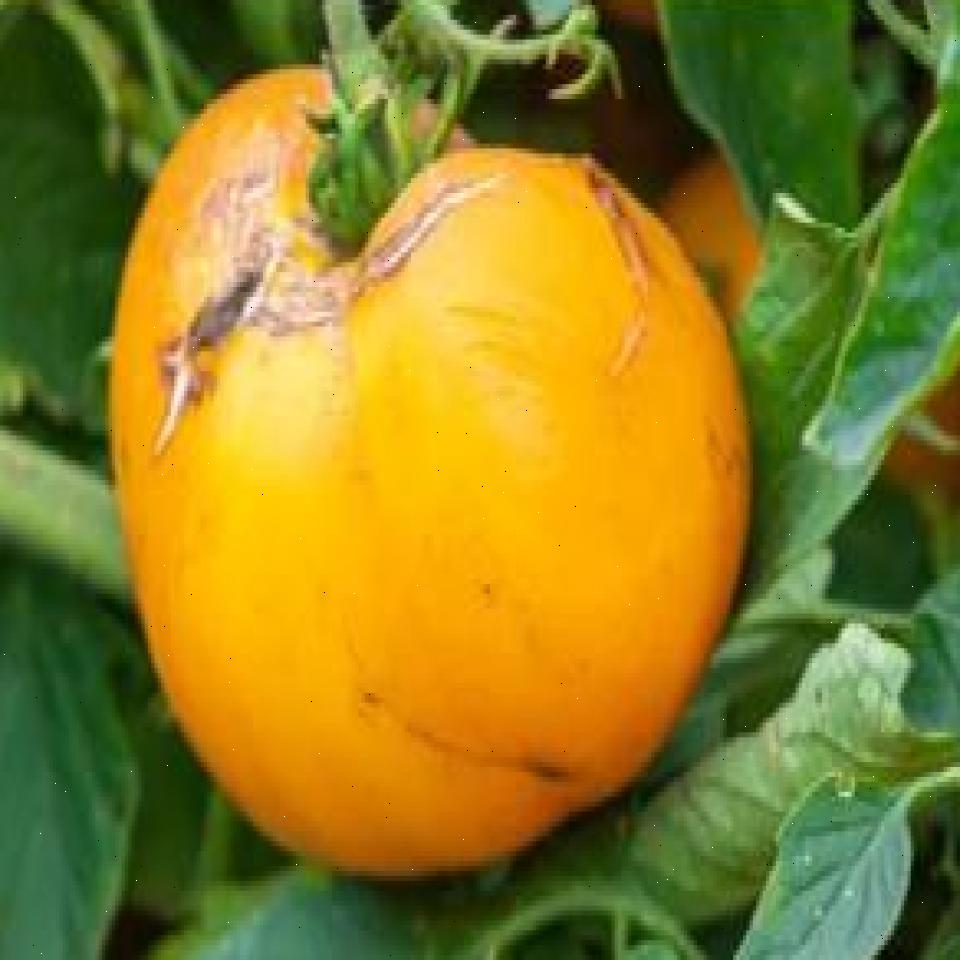Cracking: (137, 93, 503, 467)
